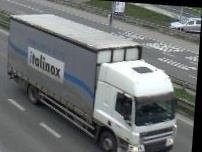truck: (1, 11, 186, 152)
